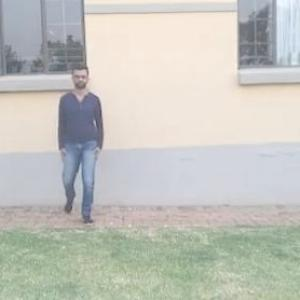follow: (55, 60, 103, 222)
